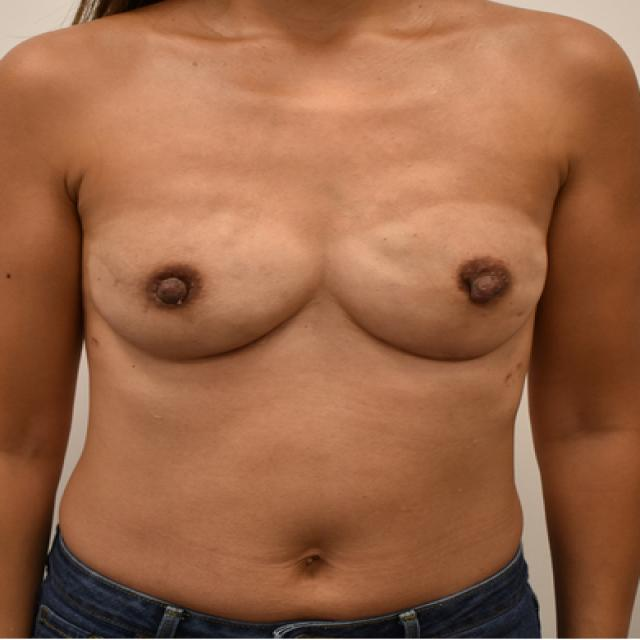Seno herido: (81, 180, 314, 372)
Seno ileso: (326, 180, 560, 371)
